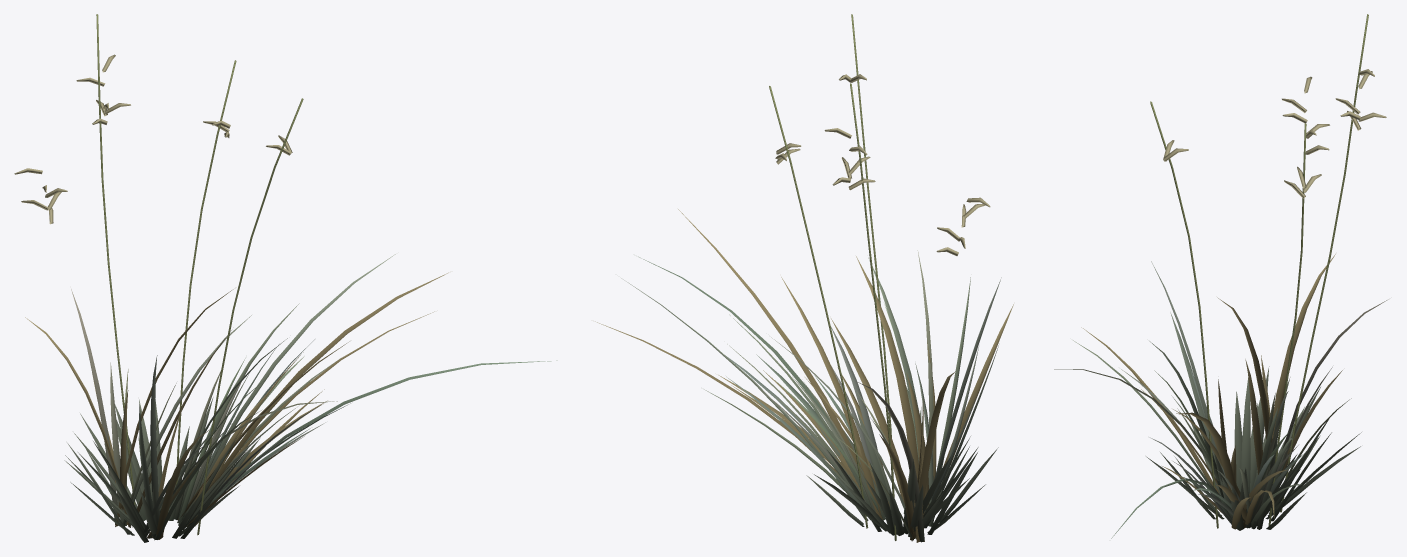
The model's file is eco_grass_coastal_dune_LOD1.glb.
3 renders of one model, left to right at view 1: azimuth 30°, elevation 25°; view 2: azimuth 150°, elevation 25°; view 3: azimuth 270°, elevation 25°, orthographic. The views are drawn at different scales.
Visible parts, largest first — view 1: eco_grass_coastal_dune_LOD1; view 2: eco_grass_coastal_dune_LOD1; view 3: eco_grass_coastal_dune_LOD1.
Boxes of the visible parts, <box> form: eco_grass_coastal_dune_LOD1: <box>14,14,557,542</box>; eco_grass_coastal_dune_LOD1: <box>595,14,1013,542</box>; eco_grass_coastal_dune_LOD1: <box>1054,14,1388,538</box>.
Bounding box in the file's own units: 0.856 × 0.8682 × 0.5506.
